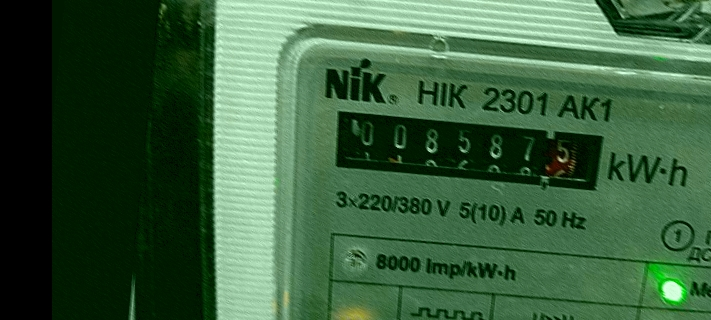0: (358, 117, 378, 148), (392, 121, 412, 151)
5: (555, 137, 575, 167), (456, 127, 475, 156)
7: (519, 132, 539, 164)
8: (487, 130, 507, 161), (424, 126, 442, 155)
screen: (315, 93, 624, 206)
